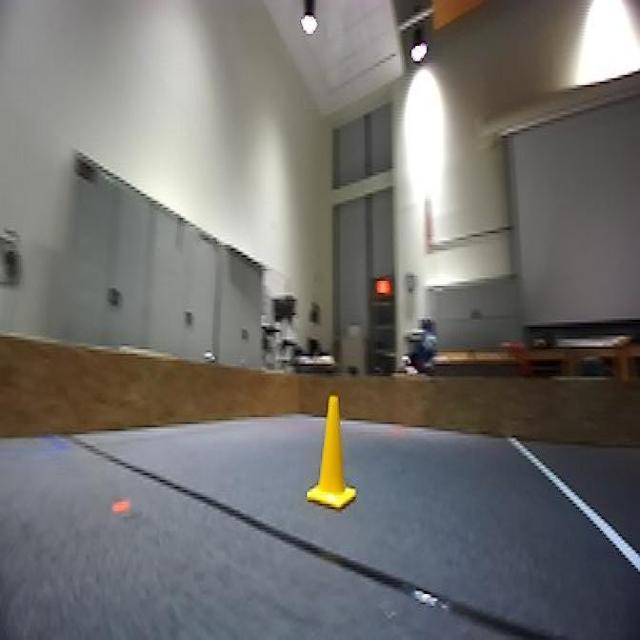frc_cone: (309, 398, 356, 521)
